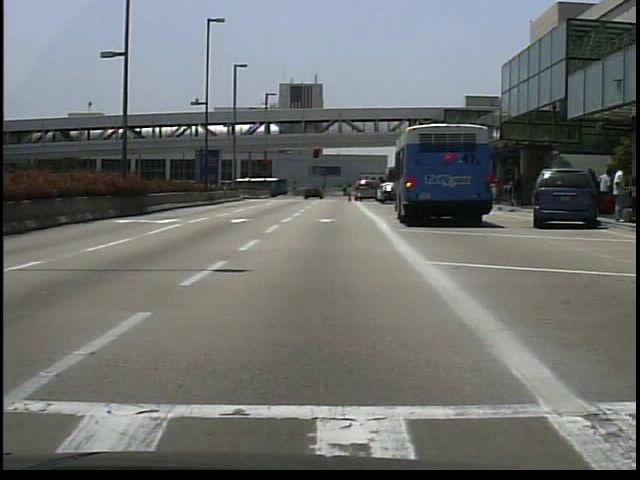person: (612, 163, 631, 221), (512, 172, 524, 208), (598, 167, 614, 191), (342, 183, 354, 198), (322, 184, 332, 200)
